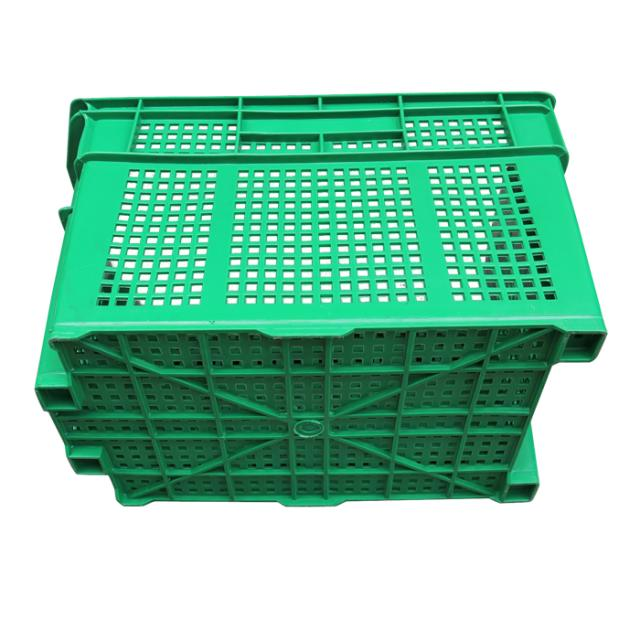basket: (30, 91, 610, 511)
